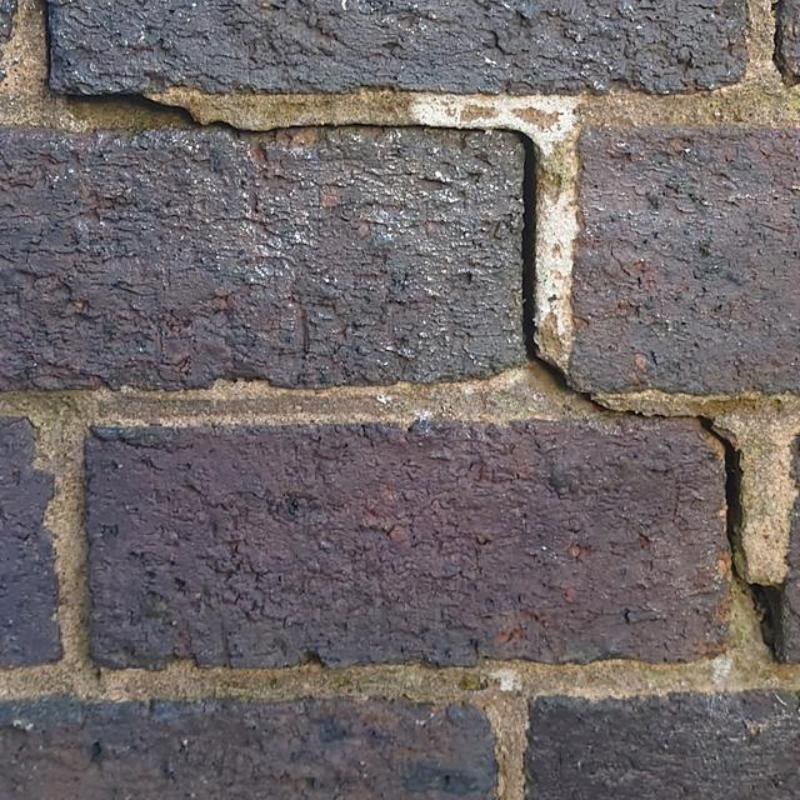pothole: (522, 138, 600, 413), (700, 417, 783, 655), (208, 120, 522, 138), (70, 94, 200, 127), (773, 0, 799, 85), (43, 0, 62, 100), (601, 405, 700, 420)
